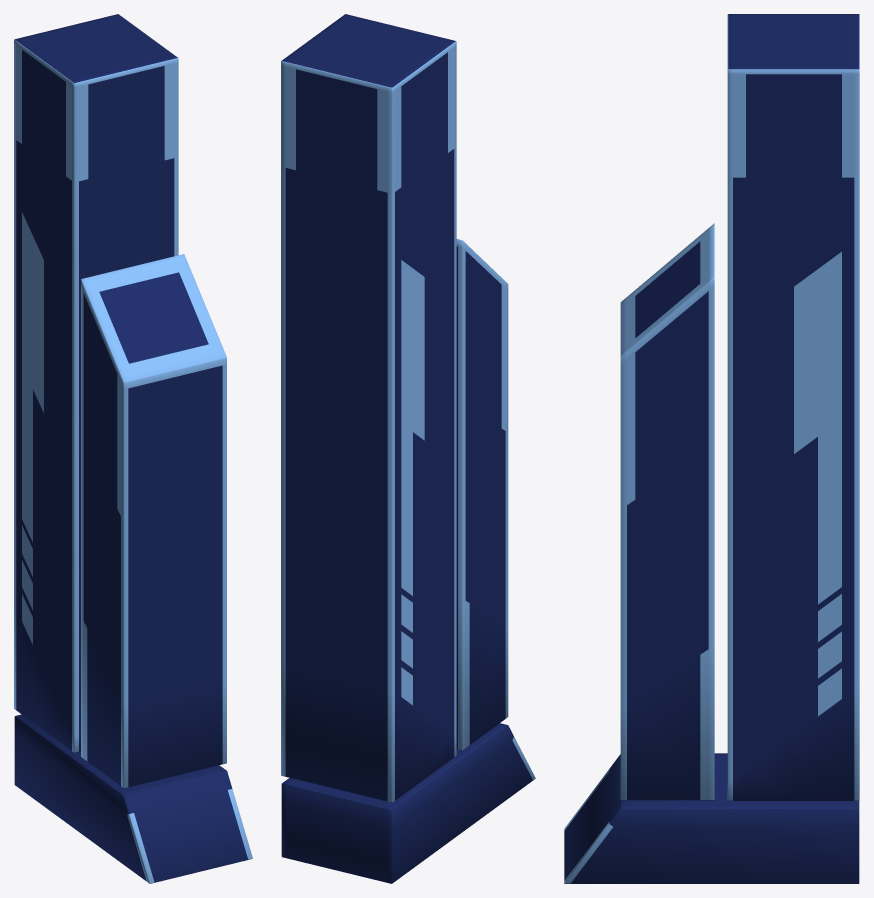
The model's file is Corupted Drive Tower (1).fbx.
3 renders of one model, left to right at view 1: azimuth 30°, elevation 25°; view 2: azimuth 150°, elevation 25°; view 3: azimuth 270°, elevation 25°, orthographic. The views are drawn at different scales.
Visible parts, largest first — view 1: Tower atas Depan, Tower Atas Belakang, Tower Bawah; view 2: Tower Atas Belakang, Tower atas Depan, Tower Bawah; view 3: Tower Atas Belakang, Tower atas Depan, Tower Bawah.
Boxes of the visible parts, box(x1,y1,x2,y2) form: Tower atas Depan: box(81, 254, 226, 788); Tower Atas Belakang: box(14, 14, 178, 752); Tower Bawah: box(14, 714, 252, 883); Tower Atas Belakang: box(281, 14, 456, 802); Tower atas Depan: box(456, 239, 508, 750); Tower Bawah: box(281, 723, 535, 883); Tower Atas Belakang: box(727, 14, 859, 800); Tower atas Depan: box(620, 223, 714, 800); Tower Bawah: box(564, 753, 859, 883).
Bounding box in the file's own units: 87.43 × 596 × 196.
